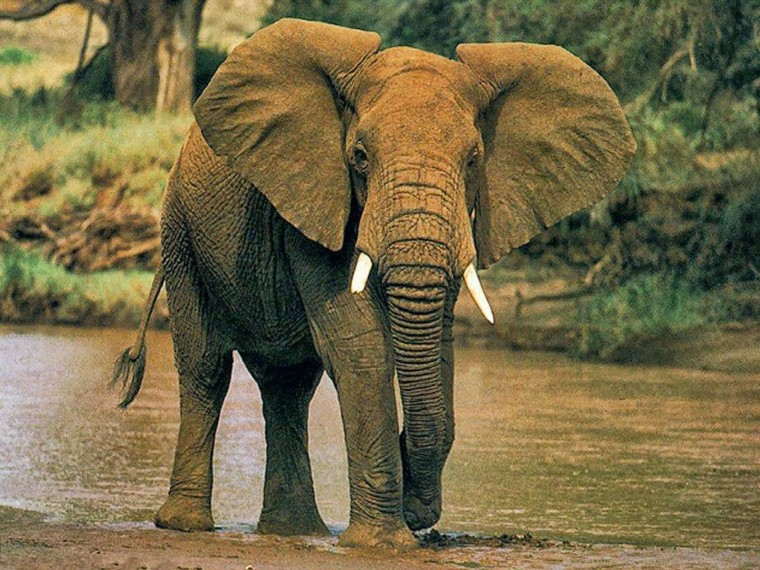africanelephant: (304, 45, 501, 327)
